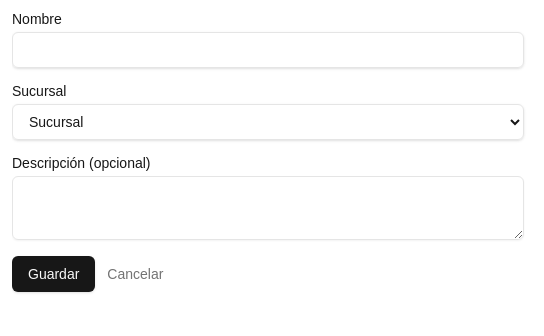
Scenario: BarberForm — rejected submit preserves all values › should_keep_the_typed_name_and_bio_after_rejection
In the field labelled "Nombre": (268, 50) left=12, top=32, right=524, bottom=68, type "Juan Pérez"
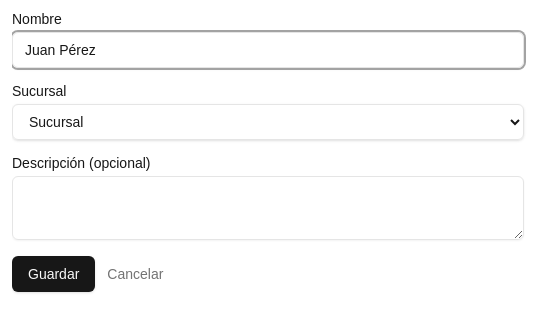
Select "Sucursal Norte" in the dropdown labelled "Sucursal": (268, 122) left=12, top=104, right=524, bottom=140
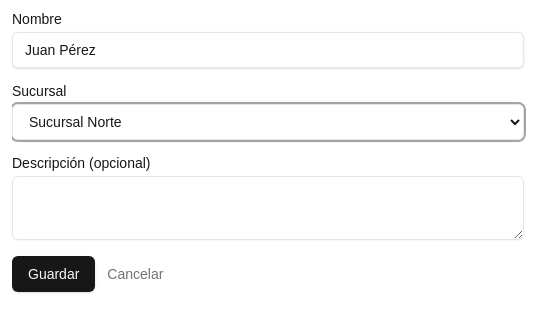
In the text box labelled "Descripción (opcional)": (268, 208) left=12, top=176, right=524, bottom=240, type "Especialista en cortes clásicos"
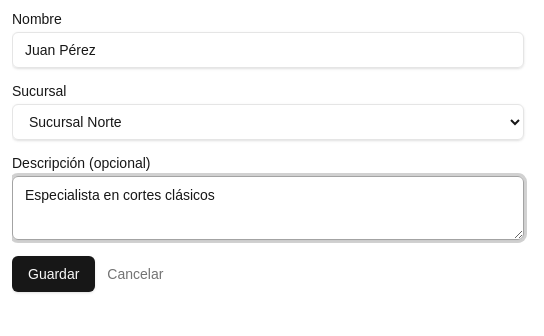
Click the button "Guardar": click(54, 274) left=12, top=256, right=95, bottom=292
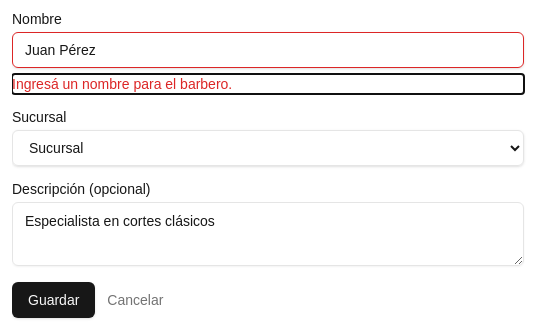
expect the message "Ingresá un nombre para el barbero." is shown: met, box left=12, top=76, right=232, bottom=92
